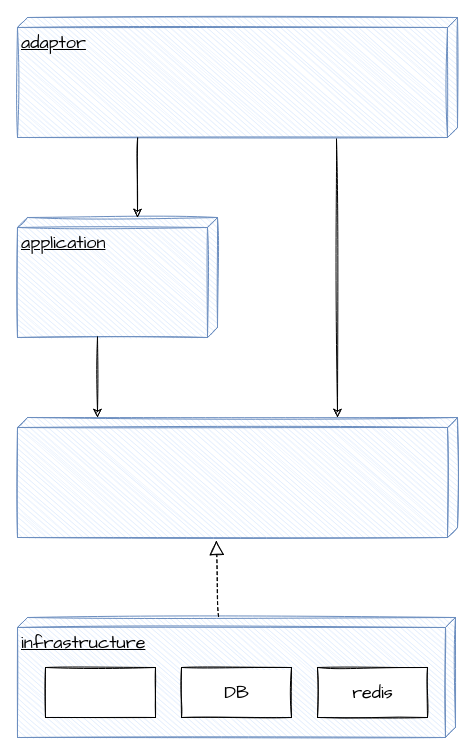
This 475x755 diagram has some shape labels left out. Each missing label, with the centre of its shape:
"domain" belongs at [237,477].
"remote" belongs at [100,692].
